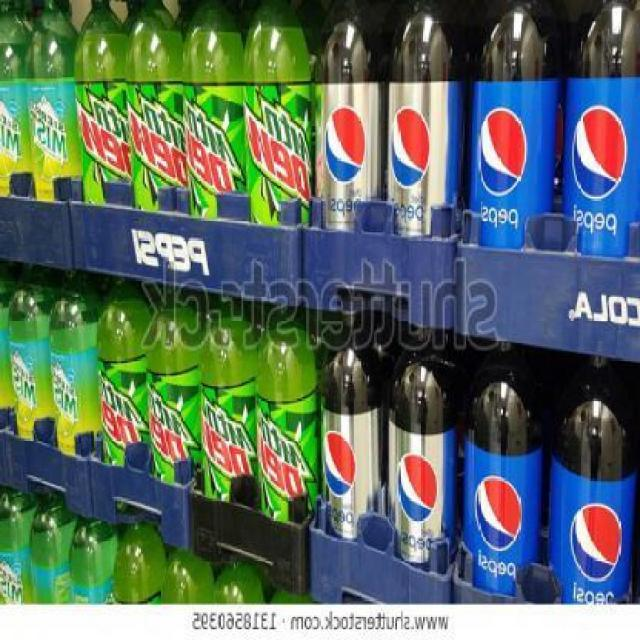Drinks: (546, 350, 640, 602), (470, 0, 564, 249), (463, 345, 546, 589), (388, 0, 470, 240), (563, 0, 638, 258), (386, 331, 463, 574), (312, 0, 389, 232), (241, 1, 313, 229), (319, 309, 383, 545), (254, 306, 318, 524), (182, 0, 244, 220), (124, 0, 181, 215), (199, 297, 255, 506), (143, 286, 199, 489), (74, 1, 125, 209), (96, 270, 145, 473)
